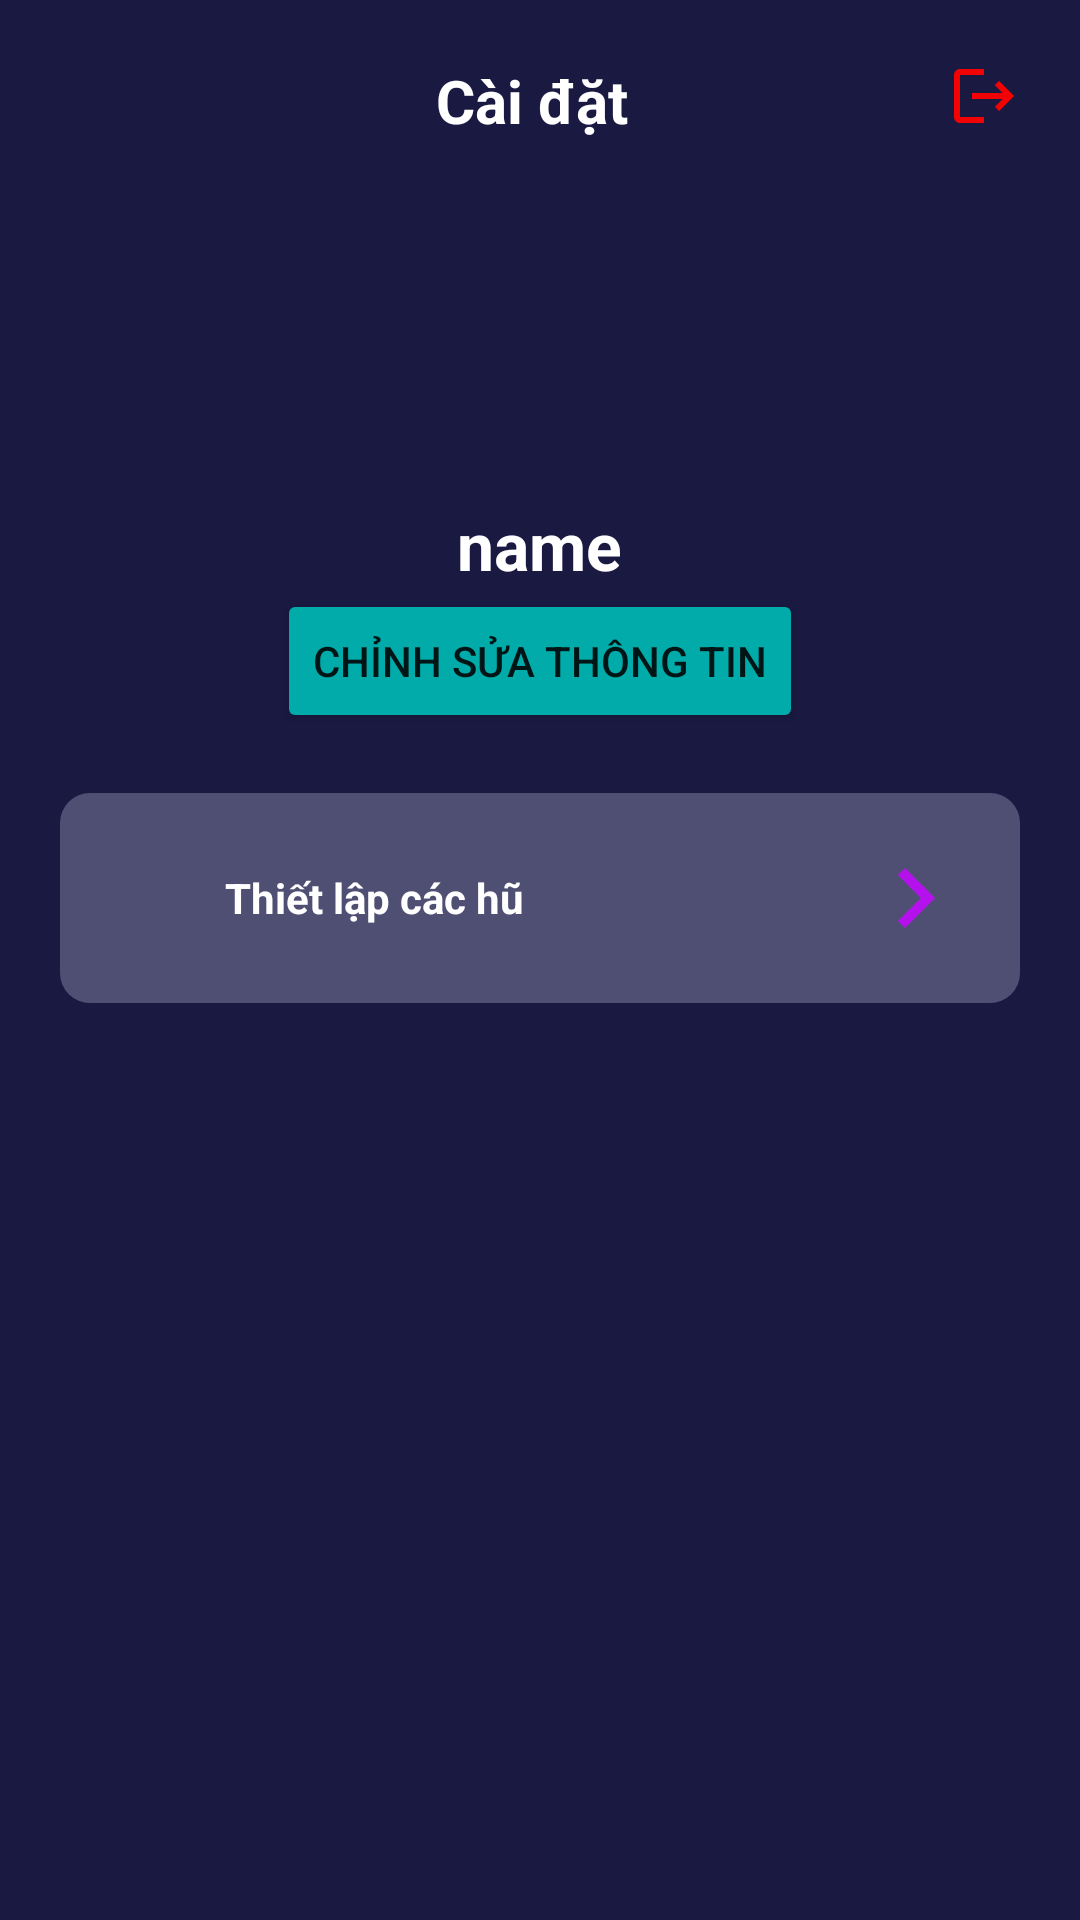

Icons on this 1080px x 1920px Android screen, each with its box as bbox=[x1, y1, x2, y2]:
keyboard arrow right: bbox=[898, 868, 935, 928]
